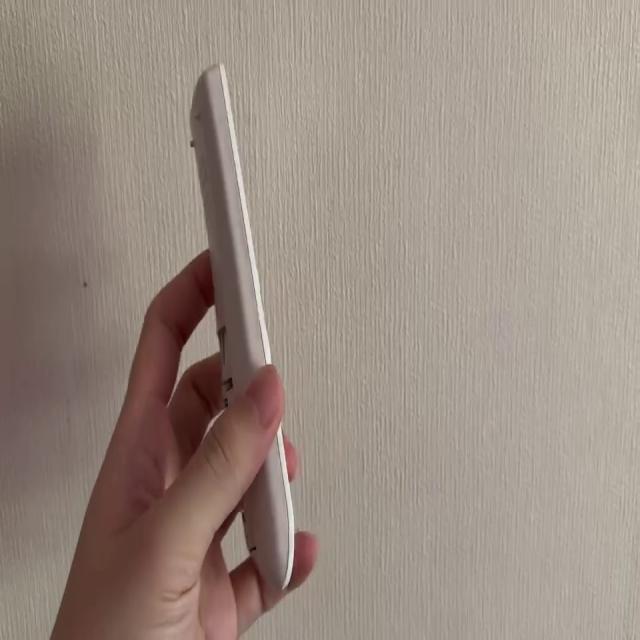remote: (188, 62, 310, 600)
